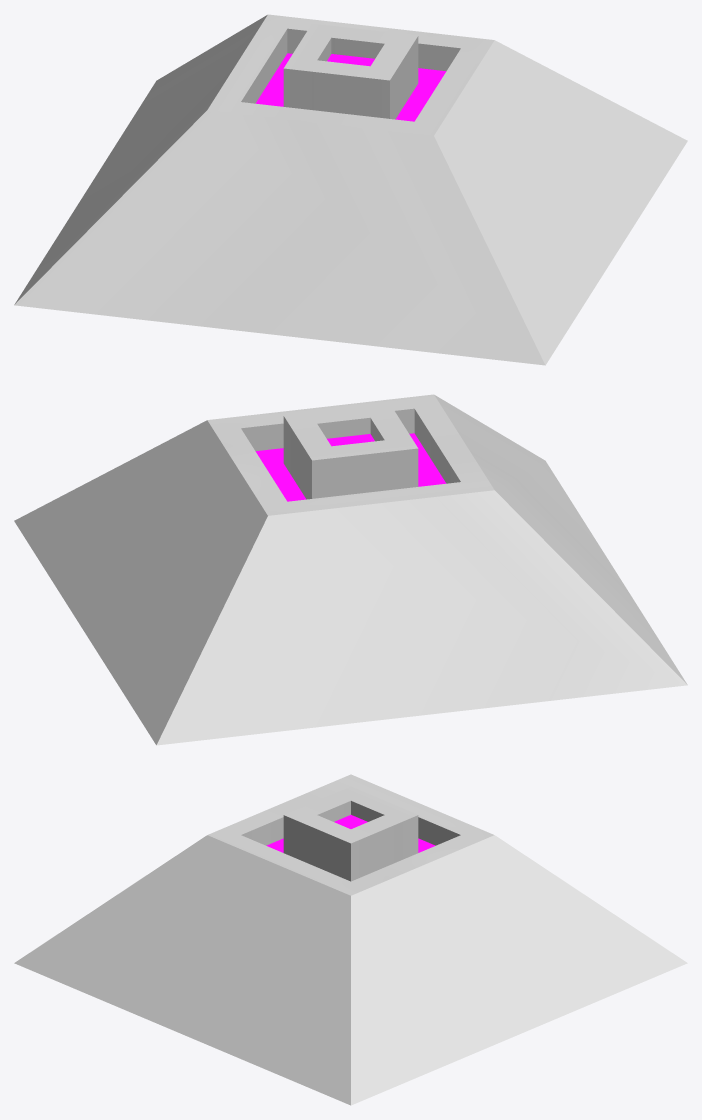
Rendered from scifiPickupFlagBaseB.glb.
3 renders of one model, top to bottom at view 1: azimuth 30°, elevation 25°; view 2: azimuth 150°, elevation 25°; view 3: azimuth 270°, elevation 25°, orthographic. The views are drawn at different scales.
Visible parts, largest first — view 1: scifiFlagBaseA; view 2: scifiFlagBaseA; view 3: scifiFlagBaseA.
Part boxes in pixels (left/top/right/bottom): scifiFlagBaseA: left=14, top=14, right=687, bottom=365; scifiFlagBaseA: left=14, top=394, right=687, bottom=745; scifiFlagBaseA: left=14, top=774, right=687, bottom=1105.
Size of what is drawn, in the model's own units: 0.5791 by 0.1405 by 0.5791.
Materials: 2 (1 with a texture image).
